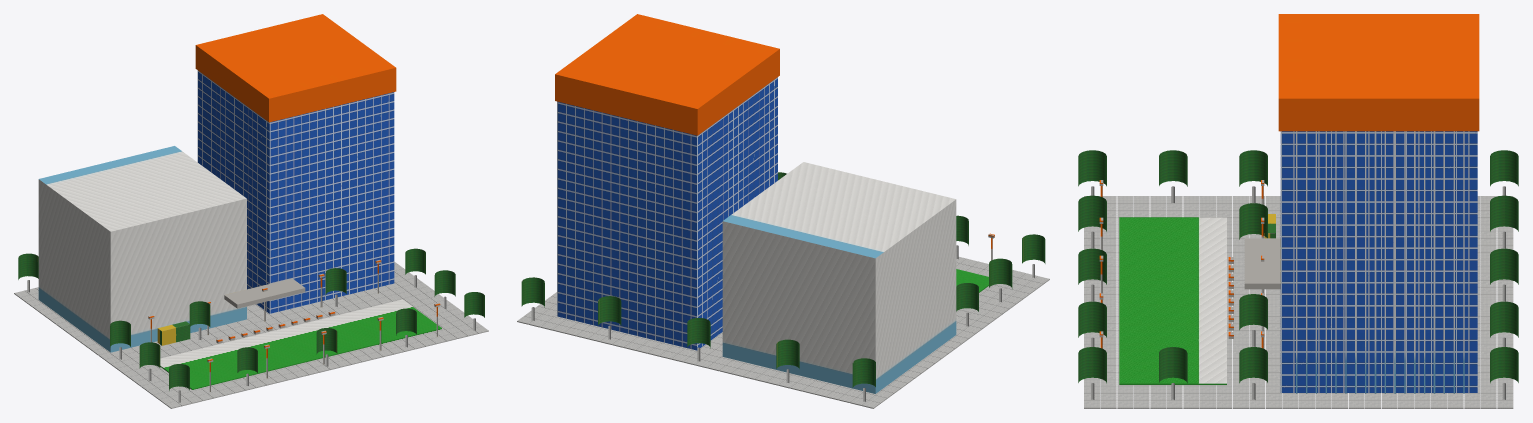
The picture shows the model from 3 angles, left to right: view 1: azimuth 30°, elevation 25°; view 2: azimuth 150°, elevation 25°; view 3: azimuth 270°, elevation 25°; orthographic projection. The views are drawn at different scales.
Parts seen in each view (by area): view 1: 28185_B35_Osstem_Global_Songdo_HQ; view 2: 28185_B35_Osstem_Global_Songdo_HQ; view 3: 28185_B35_Osstem_Global_Songdo_HQ.
Boxes of the visible parts, x1,y1,x2,y2 form: 28185_B35_Osstem_Global_Songdo_HQ: (14, 14, 488, 408); 28185_B35_Osstem_Global_Songdo_HQ: (517, 14, 1049, 408); 28185_B35_Osstem_Global_Songdo_HQ: (1078, 14, 1518, 408).
Bounding box in the file's own units: 55.95 × 36.5 × 49.2.
Materials: 1 (1 with a texture image).
